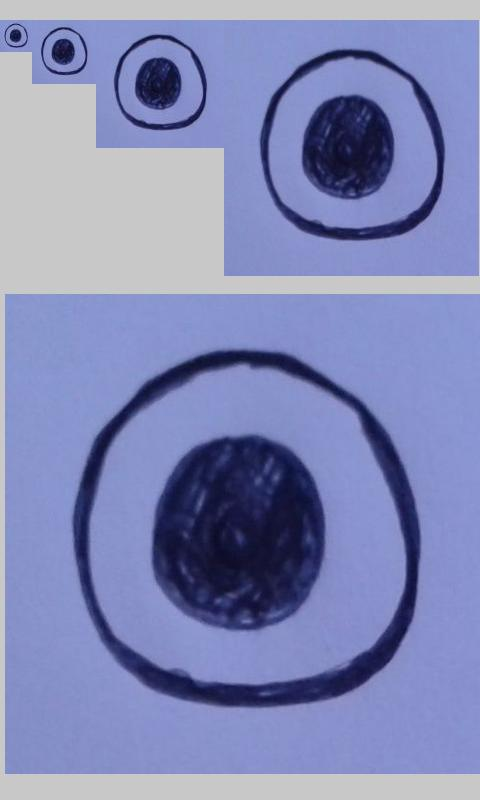radio_button: (71, 348, 423, 712), (259, 47, 446, 243), (111, 32, 209, 132), (40, 26, 88, 76), (3, 22, 29, 49)
